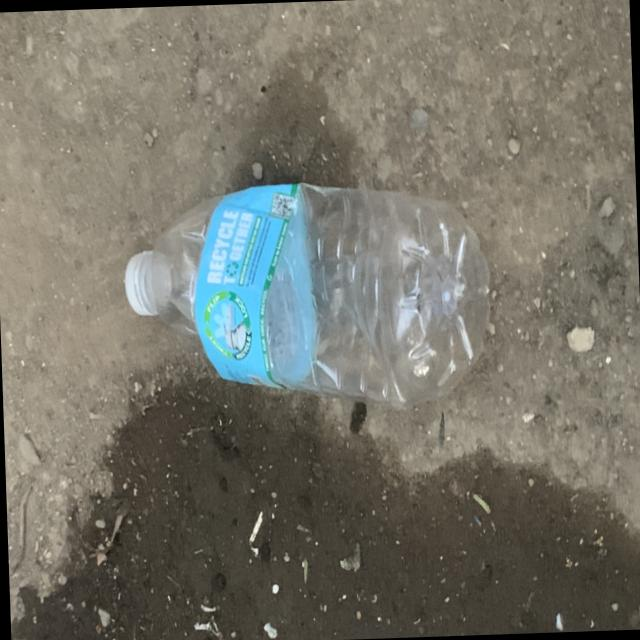Bottle: (124, 182, 489, 404)
